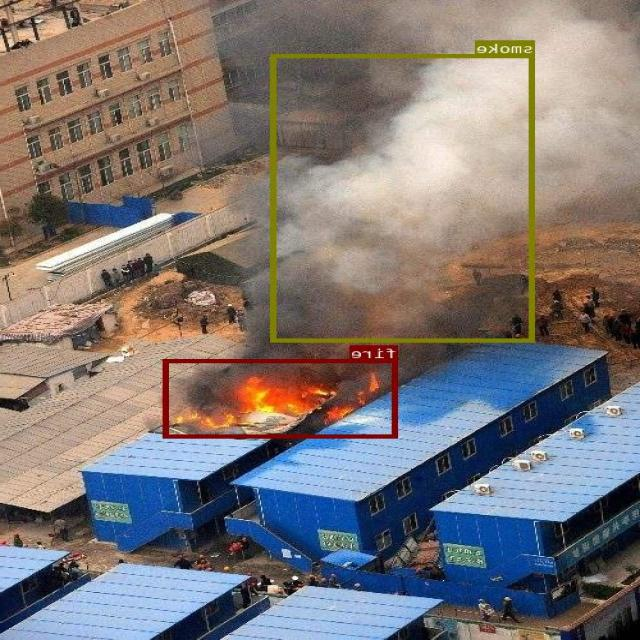fire: (165, 359, 398, 437)
smoke: (272, 54, 536, 341)
